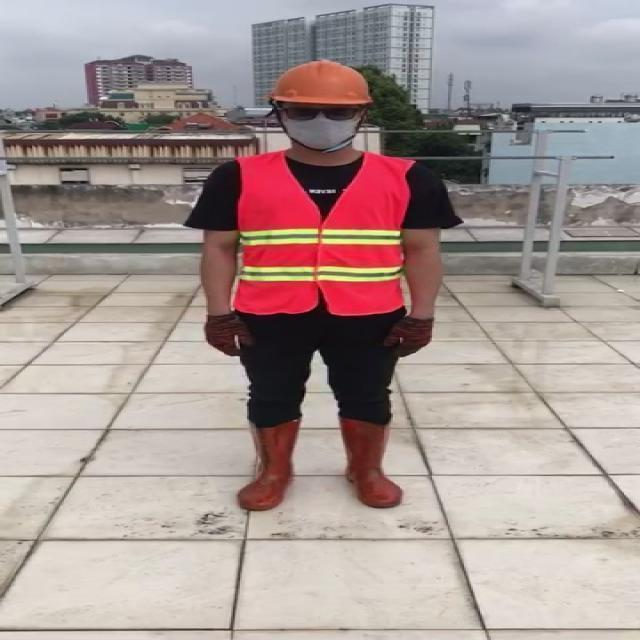gloves: (382, 313, 435, 359), (203, 310, 252, 357)
goggles: (278, 104, 368, 121)
helmet: (266, 57, 377, 107)
safety_vest: (234, 152, 412, 314)
